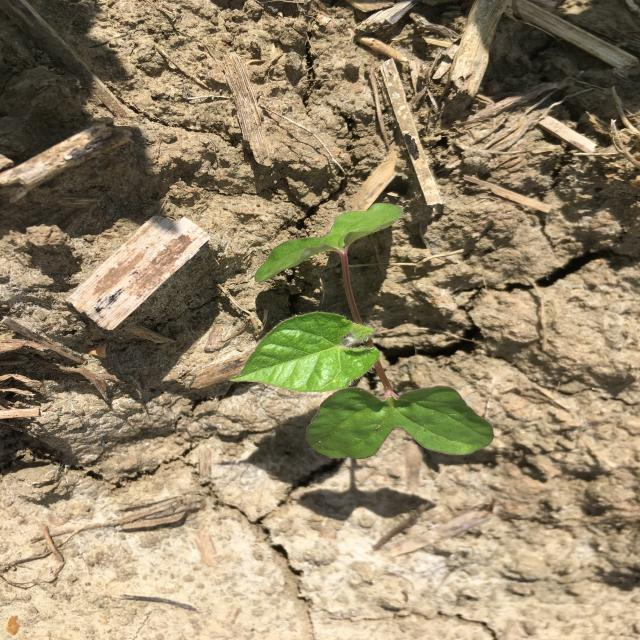MorningGlory: (229, 203, 495, 460)
